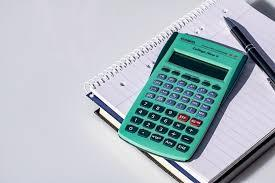Calculator: (115, 29, 249, 165)
